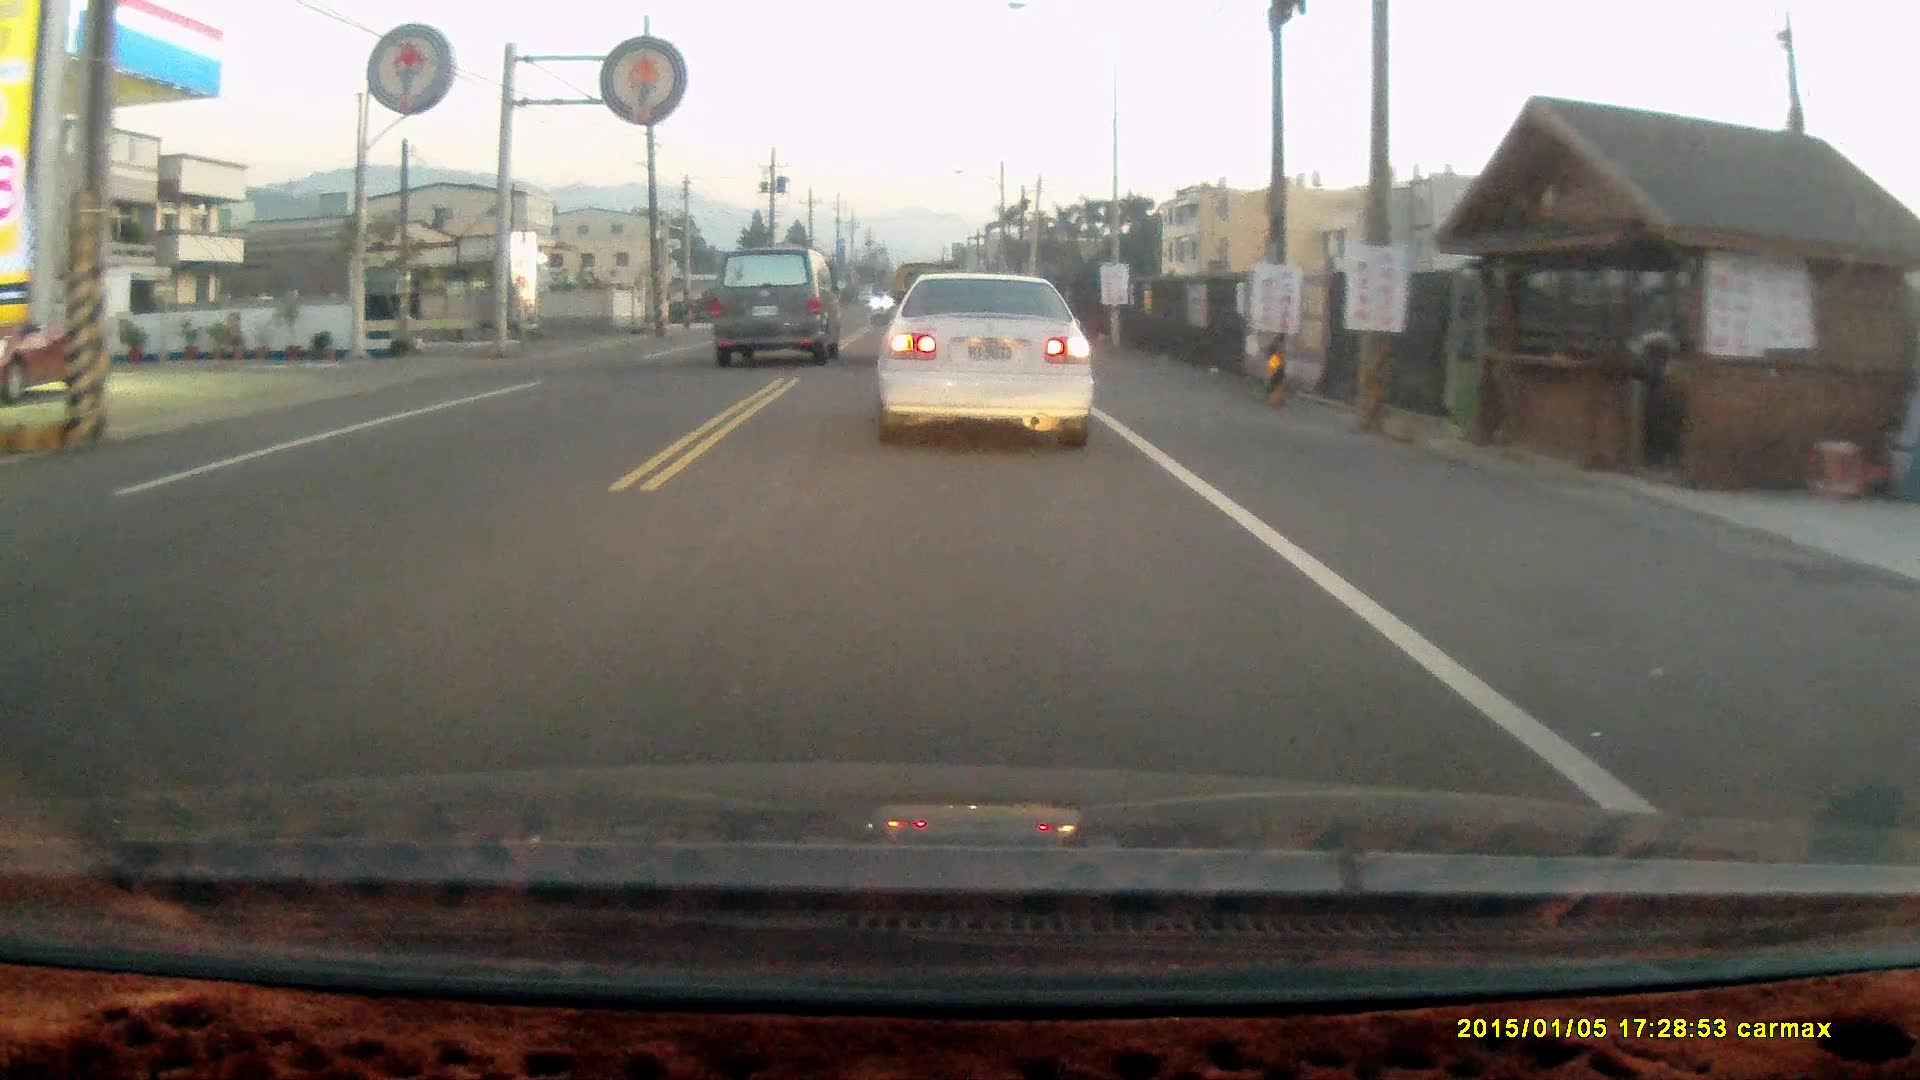pedestrian: (1638, 331, 1689, 440)
vehicle: (871, 271, 1097, 459), (706, 247, 843, 372), (1, 296, 95, 397)
